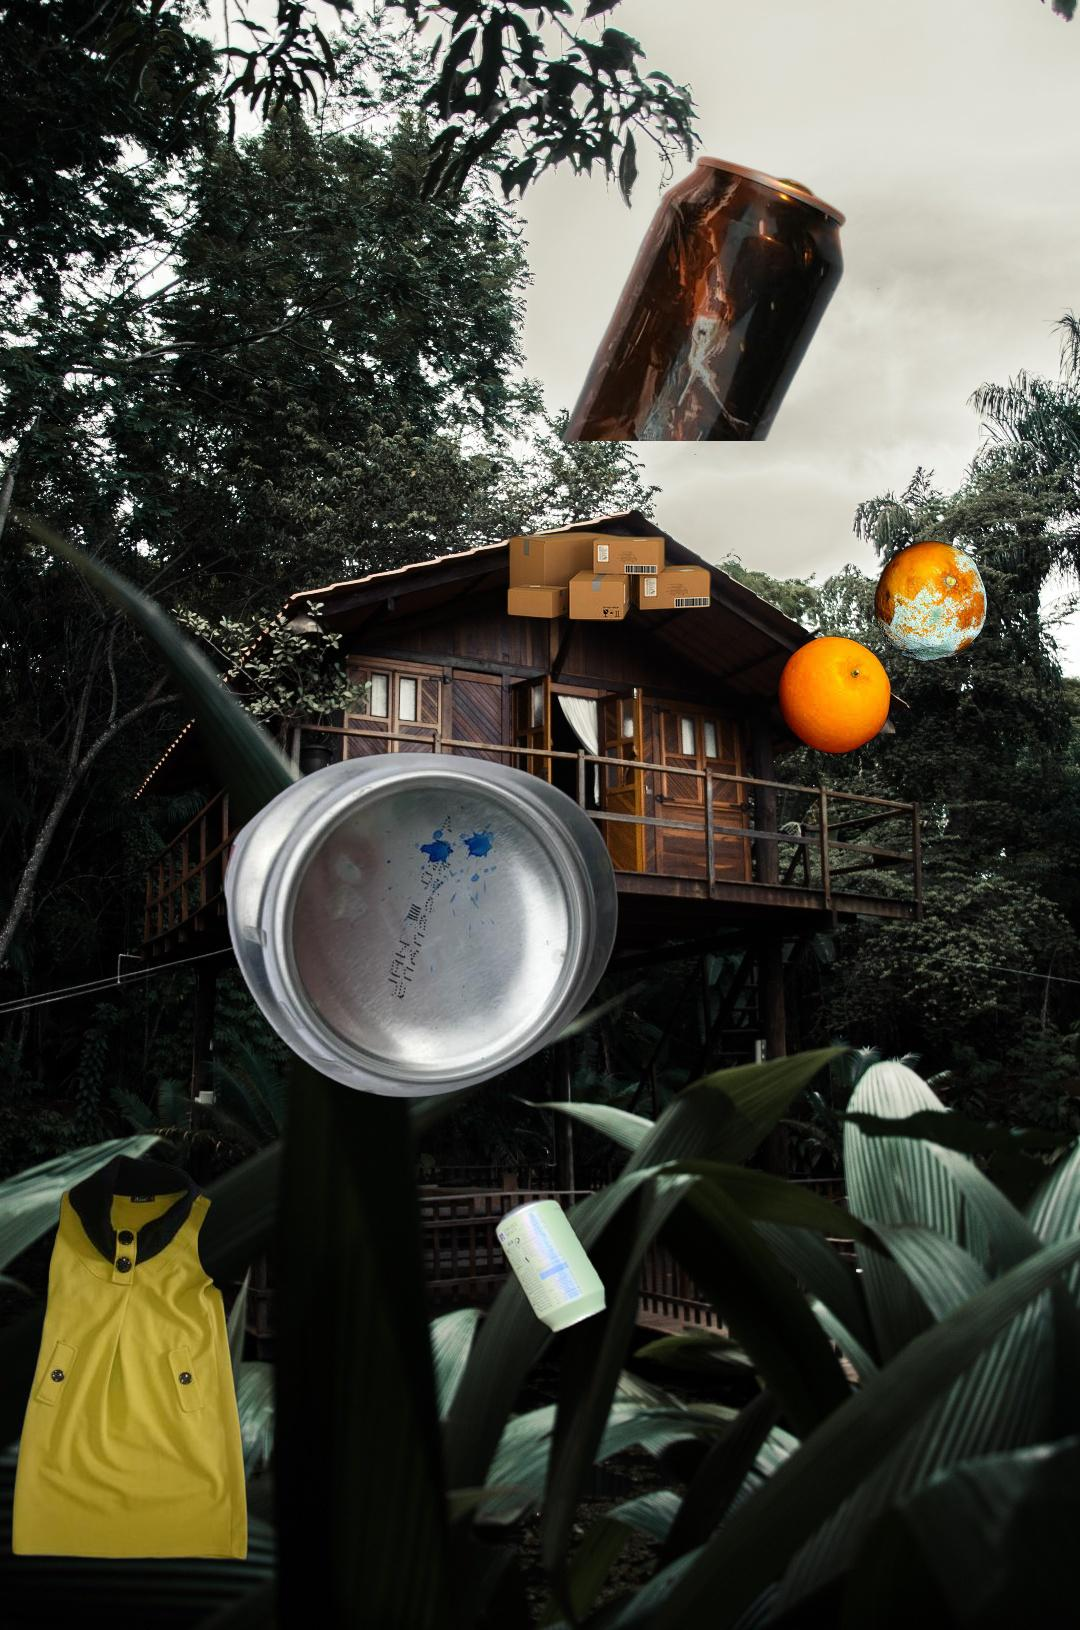biological: (775, 539, 990, 757)
clothes: (8, 1149, 251, 1566)
metal-cans: (219, 749, 623, 1101), (554, 154, 850, 441), (491, 1193, 686, 1557)
trashbox-cardboard: (501, 529, 716, 643)
